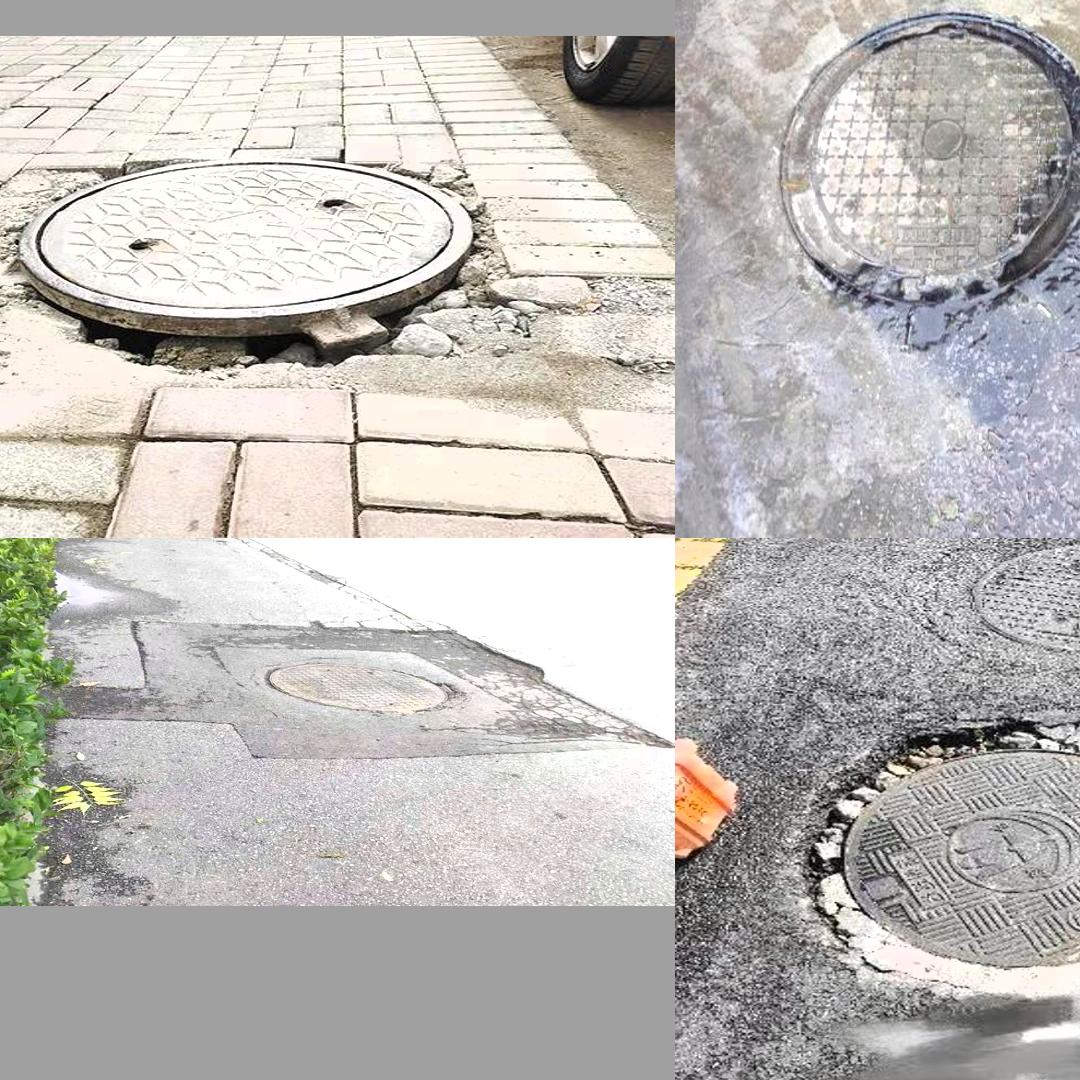circle: (0, 144, 557, 418), (752, 0, 1080, 380), (805, 720, 1080, 1009), (146, 636, 587, 754)
good: (966, 543, 1080, 653)
